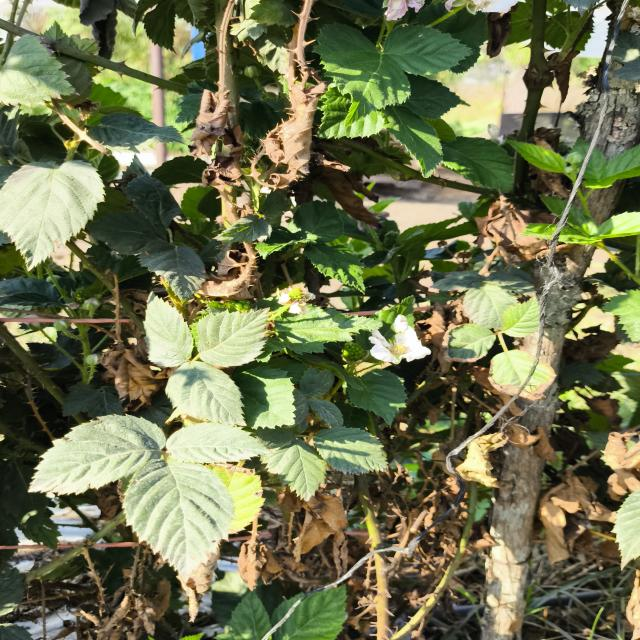flor: (369, 314, 431, 364)
